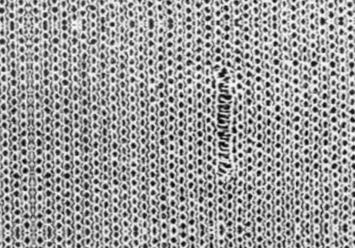slub: (213, 67, 240, 181)
